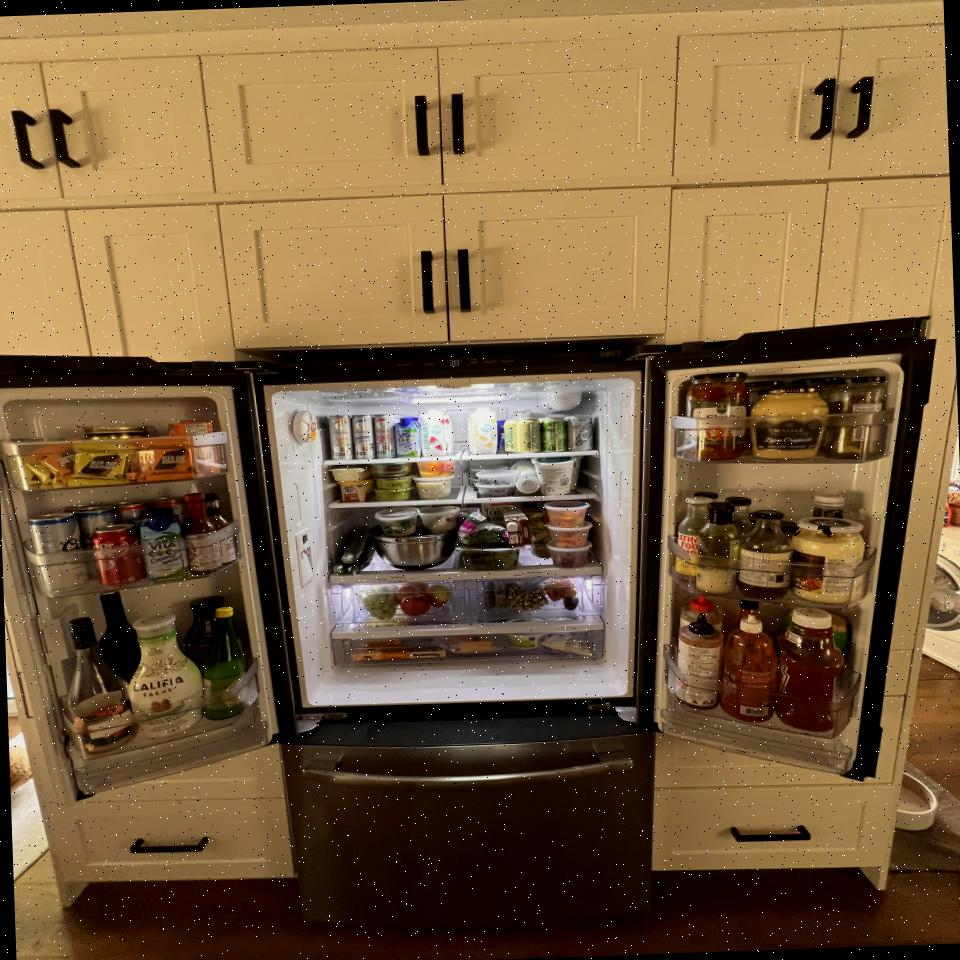Manzana: (400, 594, 432, 617), (426, 584, 452, 608), (394, 585, 423, 605)
Pepino: (341, 526, 371, 564), (347, 536, 376, 574), (333, 562, 347, 574)
Queso: (351, 645, 446, 661), (459, 638, 492, 654)
Yogur: (532, 456, 578, 496)
ketchup: (774, 605, 844, 734)
mustard: (749, 383, 830, 461)
